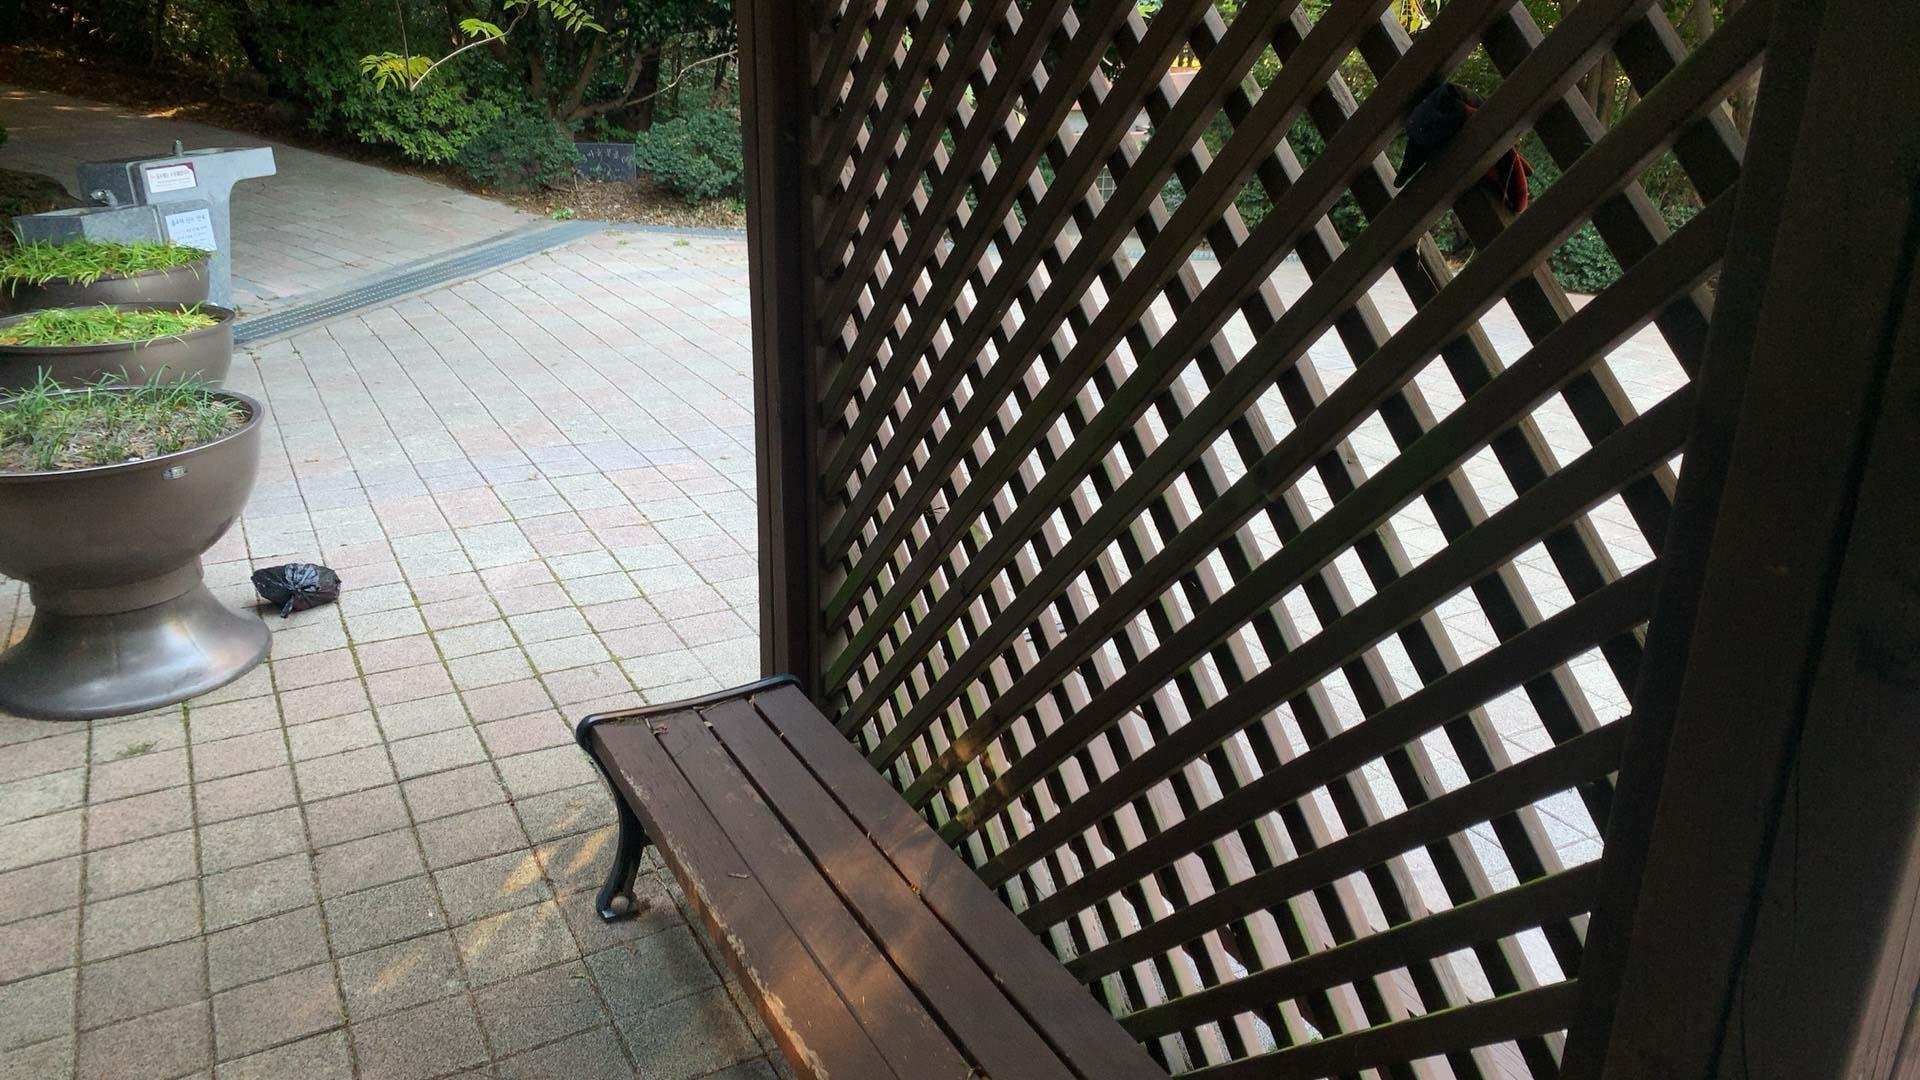black_bag: (245, 558, 343, 622)
